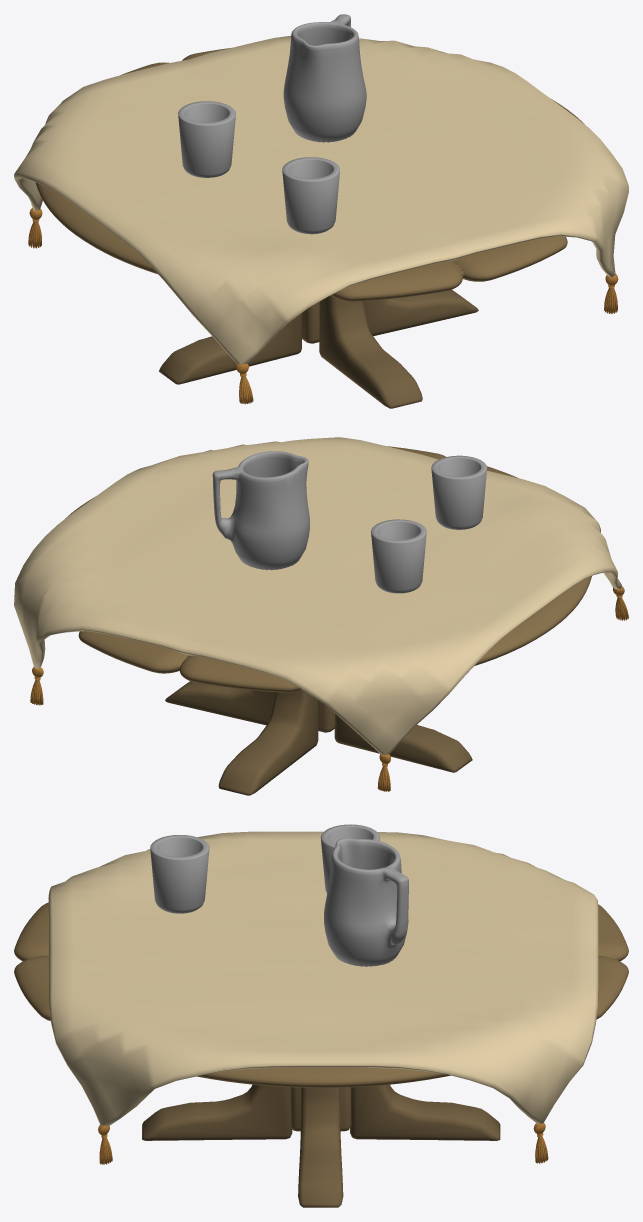
File: YER MASA.fbx
3 views of the same model, one above another, from view 1: azimuth 30°, elevation 25°; view 2: azimuth 150°, elevation 25°; view 3: azimuth 270°, elevation 25° (orthographic). The views are drawn at different scales.
Visible parts, largest first — view 1: Plane, Cube.003, ahşap, Wooden Jug_LP, Cylinder.001, Cylinder, TASSELS.080, Cube; view 2: Plane, Cube.003, Wooden Jug_LP, ahşap, Cylinder.001, Cylinder, TASSELS.080; view 3: Plane, Cube.003, Wooden Jug_LP, ahşap, Cylinder.001, Cylinder, Cube, TASSELS.080.
Part boxes in pixels (left/top/right/bottom): Plane: left=14, top=35, right=628, bottom=364; Cube.003: left=159, top=289, right=478, bottom=408; ahşap: left=35, top=48, right=584, bottom=301; Wooden Jug_LP: left=283, top=14, right=366, bottom=142; Cylinder.001: left=282, top=157, right=339, bottom=234; Cylinder: left=178, top=101, right=235, bottom=177; TASSELS.080: left=28, top=208, right=618, bottom=404; Cube: left=302, top=302, right=319, bottom=343; Plane: left=14, top=437, right=621, bottom=754; Cube.003: left=165, top=681, right=472, bottom=795; Wooden Jug_LP: left=212, top=451, right=309, bottom=570; ahşap: left=65, top=446, right=591, bottom=692; Cylinder.001: left=431, top=455, right=487, bottom=529; Cylinder: left=371, top=519, right=426, bottom=593; TASSELS.080: left=30, top=586, right=628, bottom=791; Plane: left=48, top=831, right=598, bottom=1126; Cube.003: left=142, top=1084, right=500, bottom=1207; Wooden Jug_LP: left=324, top=838, right=408, bottom=966; ahşap: left=14, top=902, right=628, bottom=1087; Cylinder.001: left=150, top=835, right=209, bottom=913; Cylinder: left=320, top=824, right=379, bottom=893; Cube: left=290, top=1087, right=351, bottom=1131; TASSELS.080: left=98, top=1123, right=548, bottom=1164.
Bounding box in the file's own units: 1662 × 927 × 1751.
